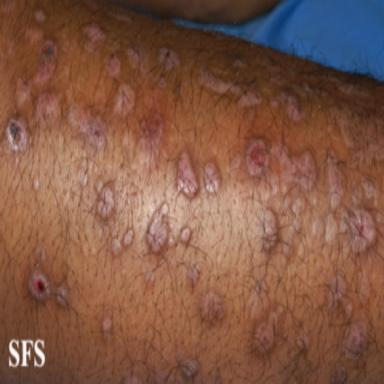Epidermolysis-Bullosa-Pruriginosa: (335, 106, 384, 165), (199, 69, 261, 108), (271, 145, 316, 193), (340, 209, 377, 254), (68, 108, 106, 149), (254, 306, 283, 353), (139, 114, 163, 166), (271, 92, 305, 122), (35, 40, 57, 86), (147, 203, 167, 252), (177, 153, 198, 198), (327, 151, 343, 210), (245, 138, 269, 177), (342, 322, 367, 357), (37, 93, 60, 126), (200, 291, 225, 320), (113, 84, 135, 116), (6, 118, 27, 151), (327, 276, 345, 311), (29, 271, 49, 300), (97, 185, 114, 219), (263, 209, 277, 250), (361, 178, 379, 207), (16, 78, 31, 109), (159, 48, 179, 70), (205, 162, 219, 193), (293, 197, 305, 231), (338, 84, 369, 97), (85, 24, 105, 43), (325, 214, 337, 243), (181, 360, 199, 379), (127, 47, 142, 69), (55, 284, 68, 307), (331, 365, 346, 384), (296, 330, 310, 350), (187, 264, 199, 287), (107, 56, 120, 77), (103, 316, 113, 342), (312, 215, 323, 238), (352, 186, 361, 206), (124, 229, 133, 247), (181, 227, 191, 243), (231, 154, 241, 170), (112, 238, 121, 255), (145, 271, 155, 286), (282, 242, 292, 256), (35, 9, 45, 23), (95, 178, 103, 194), (345, 303, 353, 319), (168, 235, 175, 247), (284, 194, 291, 206), (34, 178, 40, 190)
